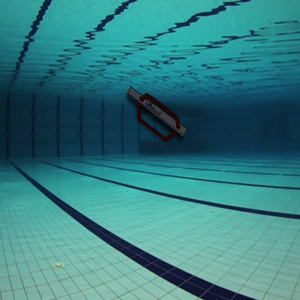submarine: (118, 78, 195, 154)
